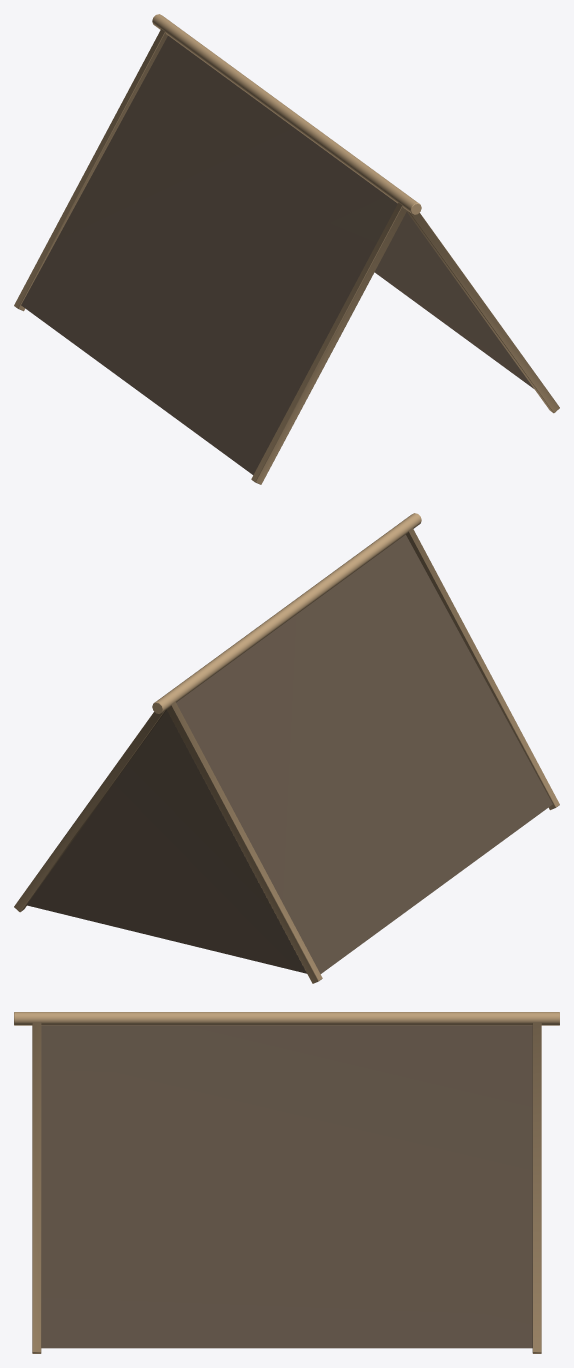
File: dh_tent.glb
3 views of the same model, one above another, from view 1: azimuth 30°, elevation 25°; view 2: azimuth 150°, elevation 25°; view 3: azimuth 270°, elevation 25° (orthographic). The views are drawn at different scales.
Parts seen in each view (by area): view 1: dh_tent; view 2: dh_tent; view 3: dh_tent.
Part boxes in pixels (box(x1,y1,x2,y2)): dh_tent: box(14, 14, 559, 484); dh_tent: box(14, 513, 559, 983); dh_tent: box(14, 1012, 559, 1353).
Size of the model in its own units: 3.26 by 2.58 by 4.8.
